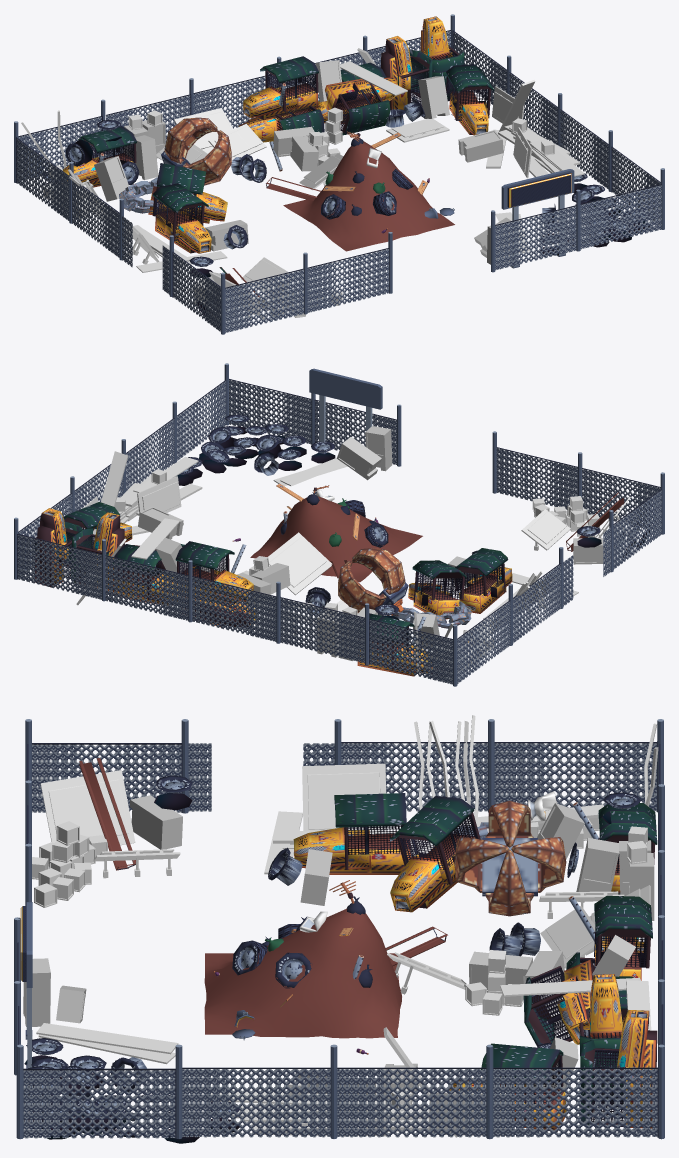
The model's file is Lixao.fbx.
3 views of the same model, one above another, from view 1: azimuth 30°, elevation 25°; view 2: azimuth 150°, elevation 25°; view 3: azimuth 270°, elevation 25° (orthographic). The views are drawn at different scales.
Visible parts, largest first — view 1: Cerca, Trator Carroceria, PlacaSolarQuebrada, MarquinasVelhas, Garra, Letreiro pequeno; view 2: Cerca, Trator Carroceria, PlacaSolarQuebrada, MarquinasVelhas, Garra, Letreiro pequeno; view 3: Cerca, Trator Carroceria, PlacaSolarQuebrada, MarquinasVelhas, Garra, Letreiro pequeno.
Part boxes in pixels (x1,y1,x2,y2): Cerca: (14, 14, 664, 334); Trator Carroceria: (42, 16, 649, 326); PlacaSolarQuebrada: (21, 48, 584, 319); MarquinasVelhas: (94, 60, 520, 306); Garra: (119, 117, 428, 213); Letreiro pequeno: (501, 169, 574, 268); Cerca: (14, 363, 664, 686); Trator Carroceria: (35, 414, 649, 676); PlacaSolarQuebrada: (76, 451, 630, 673); MarquinasVelhas: (92, 426, 607, 660); Garra: (276, 484, 471, 628); Letreiro pequeno: (309, 368, 382, 454); Cerca: (14, 719, 664, 1139); Trator Carroceria: (24, 758, 657, 1143); PlacaSolarQuebrada: (32, 715, 658, 1137); MarquinasVelhas: (23, 795, 654, 1103); Garra: (280, 800, 566, 1007); Letreiro pequeno: (20, 902, 32, 1068).
Size of the model in its own units: 3197 by 2624 by 707.
